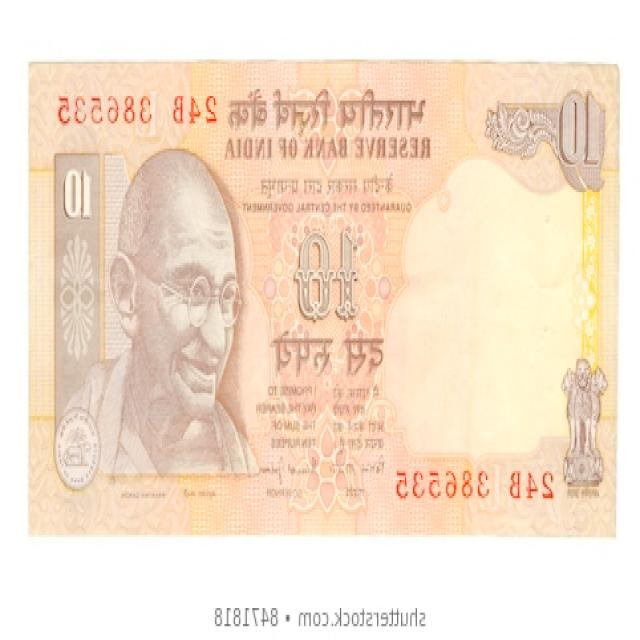10rs: (28, 61, 620, 535)
